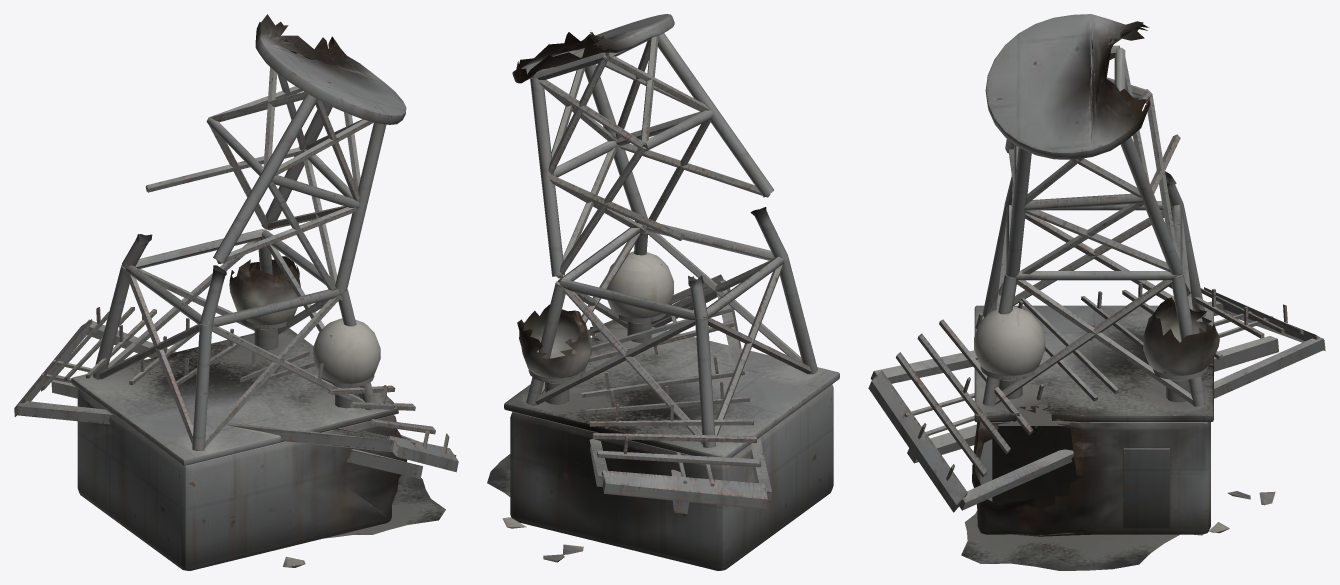
The model's file is fh_battle_e_lev_radar_broken.glb.
3 renders of one model, left to right at view 1: azimuth 30°, elevation 25°; view 2: azimuth 150°, elevation 25°; view 3: azimuth 270°, elevation 25°, orthographic. The views are drawn at different scales.
Visible parts, largest first — view 1: radar; view 2: radar; view 3: radar.
Part boxes in pixels (x1,y1,x2,y2): radar: [14, 14, 458, 570]; radar: [487, 14, 839, 570]; radar: [868, 14, 1325, 570].
Size of the model in its own units: 0.6865 by 0.9282 by 0.7838.
1 material, 1 textured.
